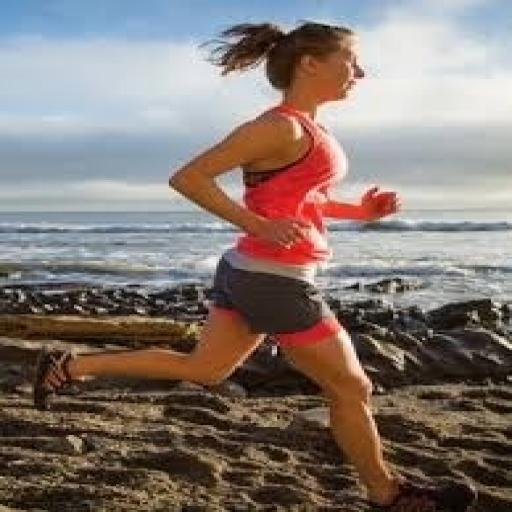running: (26, 18, 480, 510)
